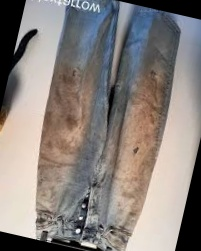earth: (115, 82, 166, 197), (37, 84, 87, 166)
